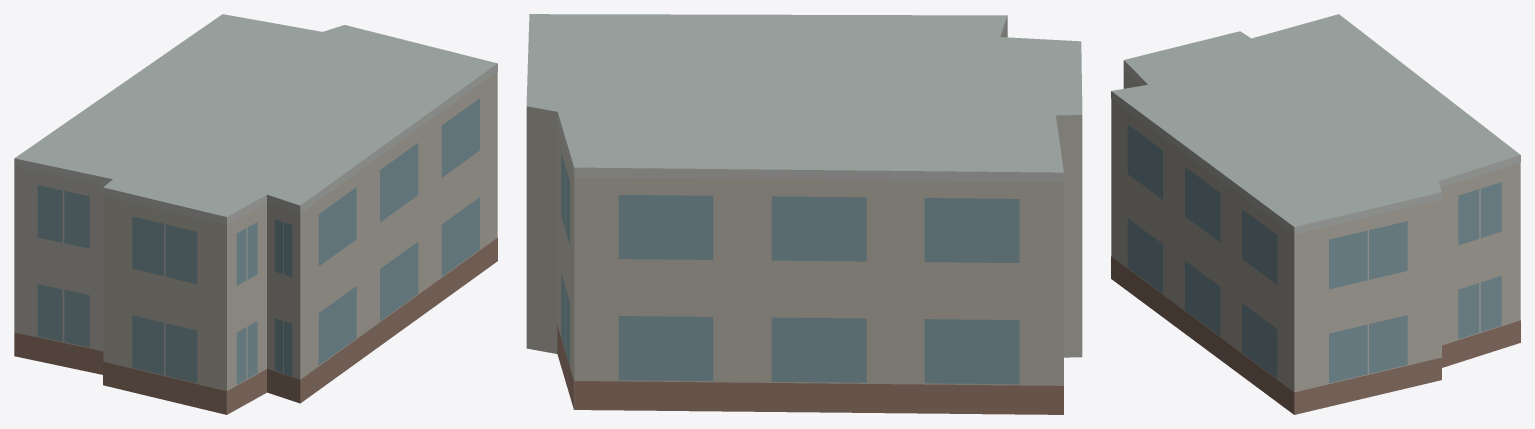
File: survey-upis-32658419.glb
The picture shows the model from 3 angles, left to right: view 1: azimuth 30°, elevation 25°; view 2: azimuth 150°, elevation 25°; view 3: azimuth 270°, elevation 25°; orthographic projection. The views are drawn at different scales.
Visible parts, largest first — view 1: survey-upis-32658419.tmp; view 2: survey-upis-32658419.tmp; view 3: survey-upis-32658419.tmp.
Boxes of the visible parts, x1,y1,x2,y2 form: survey-upis-32658419.tmp: (14,14,497,414); survey-upis-32658419.tmp: (526,14,1082,414); survey-upis-32658419.tmp: (1111,14,1520,414).
Size of the model in its own units: 14.85 by 6.1 by 12.07.
